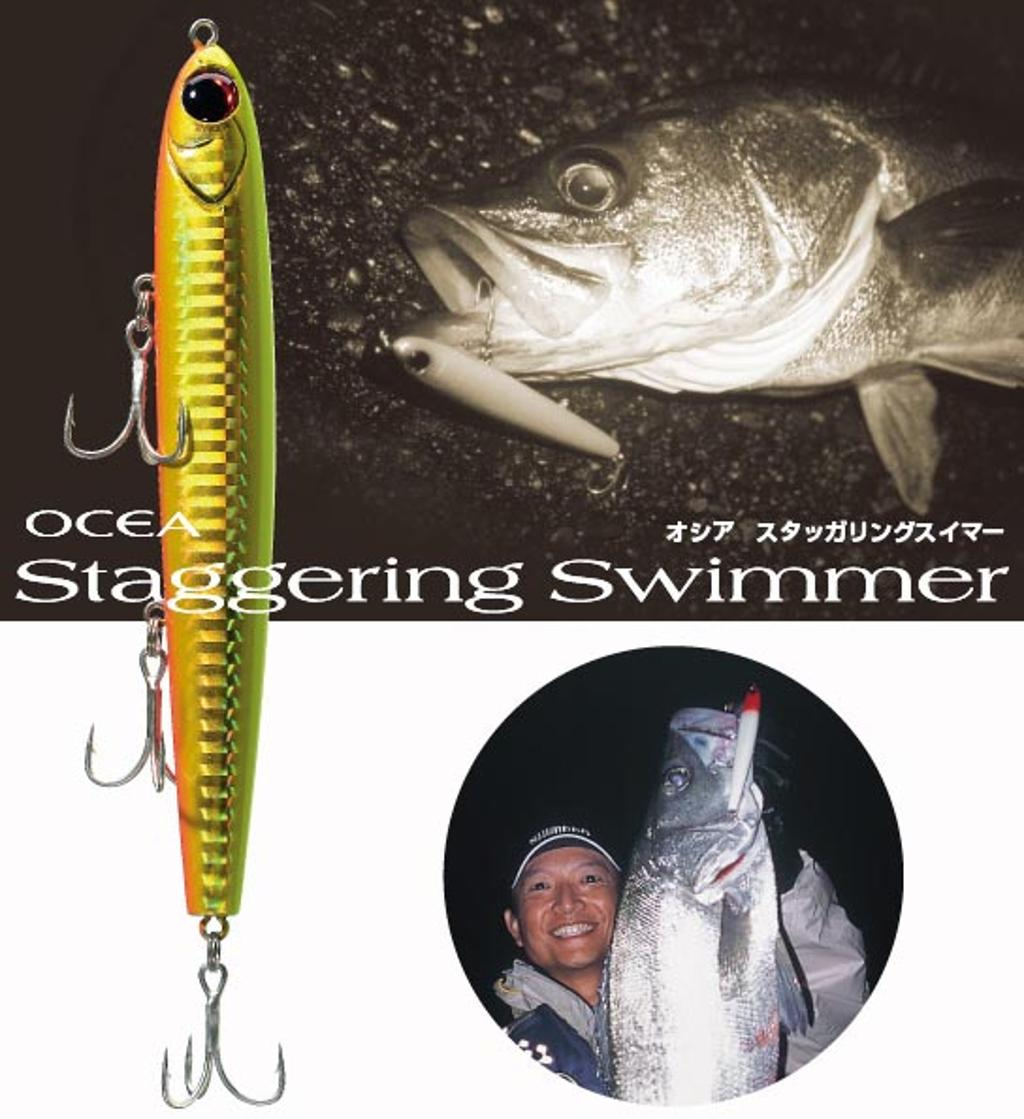face: (517, 852, 626, 963)
